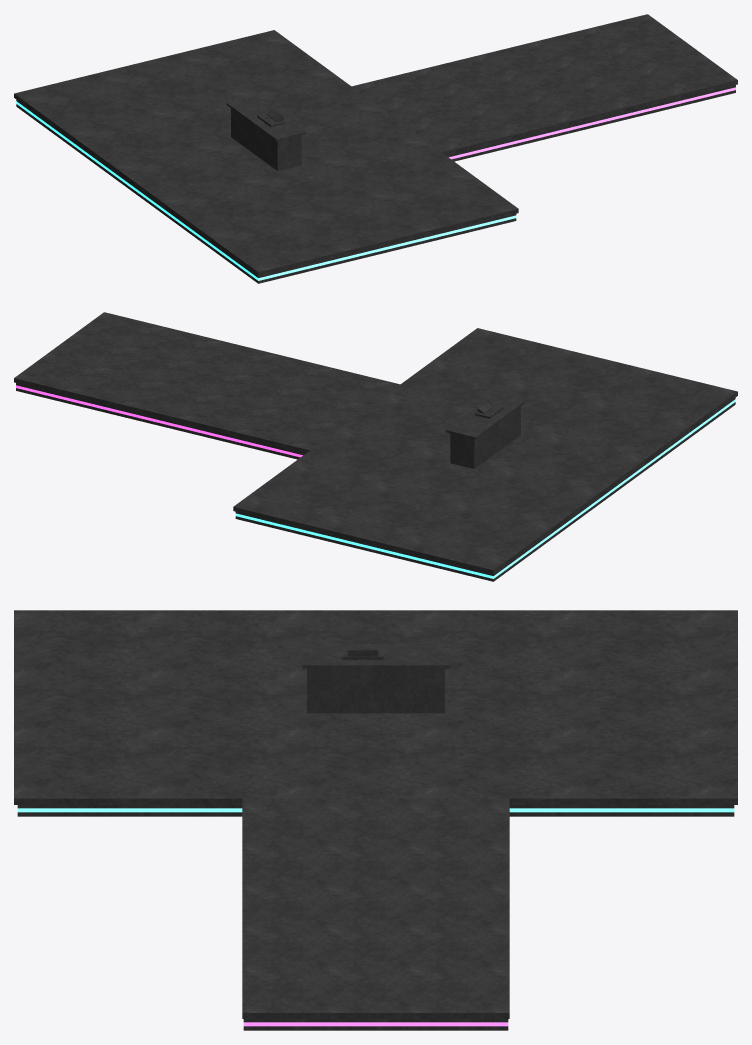
The model's file is Stage.glb.
The picture shows the model from 3 angles, top to bottom: view 1: azimuth 30°, elevation 25°; view 2: azimuth 150°, elevation 25°; view 3: azimuth 270°, elevation 25°; orthographic projection. The views are drawn at different scales.
Visible parts, largest first — view 1: Stage.004, Stage.005, Stage Stand.002; view 2: Stage.004, Stage.005, Stage Stand.002; view 3: Stage.004, Stage.005, Stage Stand.002.
Part boxes in pixels (x1,y1,x2,y2): Stage.004: [14, 30, 518, 283]; Stage.005: [352, 14, 737, 161]; Stage Stand.002: [226, 95, 306, 170]; Stage.004: [233, 328, 737, 581]; Stage.005: [14, 312, 399, 459]; Stage Stand.002: [445, 393, 525, 468]; Stage.004: [14, 610, 737, 816]; Stage.005: [242, 798, 509, 1030]; Stage Stand.002: [302, 643, 449, 713].
Size of what is drawn, in the model's own units: 13.82 by 1.25 by 10.5.
4 materials, 2 textured.
